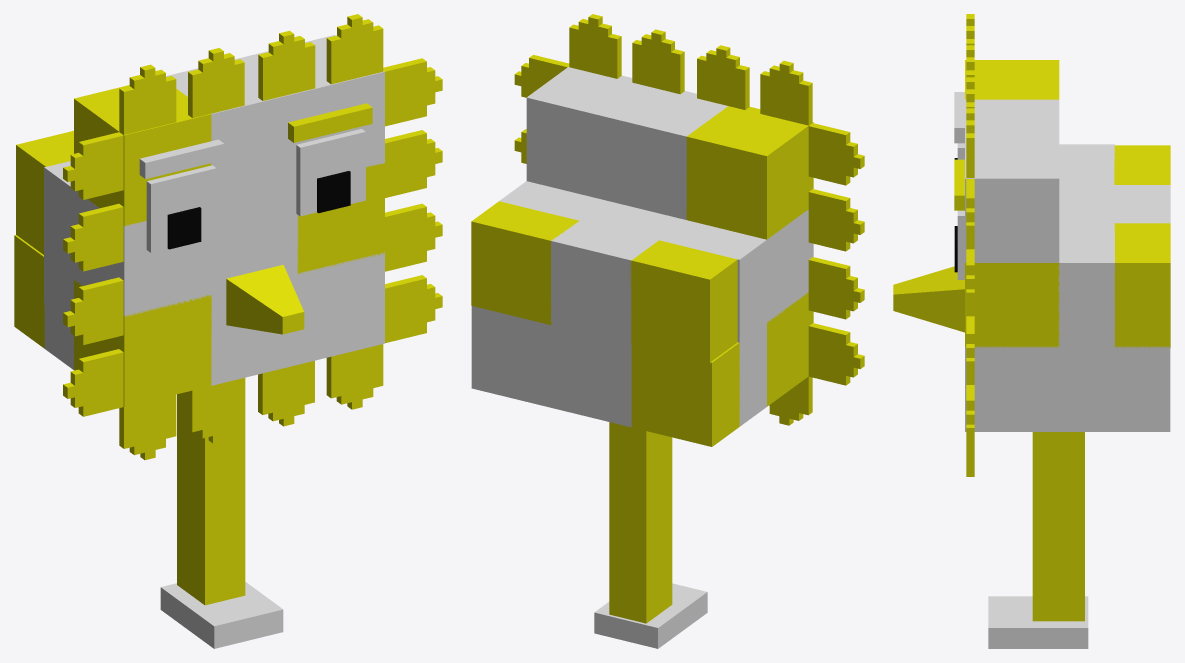
3 renders of one model, left to right at view 1: azimuth 30°, elevation 25°; view 2: azimuth 150°, elevation 25°; view 3: azimuth 270°, elevation 25°, orthographic. The views are drawn at different scales.
Parts seen in each view (by area): view 1: pCube43, pCube219, pCube47, pCube45, pCube220, pCube46, pCube2949, pCube2950, pCube48, pCube2951, pCube44, pCube221 (+31 smaller); view 2: pCube220, pCube2947, pCube219, pCube221, pCube223, pCube226, pCube228, pCube224, pCube227, pCube2949, pCube2950, pCube56 (+24 smaller); view 3: pCube221, pCube47, pCube48, pCube228, pCube59, pCube58, pCube227, pCube2949, pCube2950, pCube2951, pCube219, pCube220 (+9 smaller).
Part boxes in pixels (x1,y1,x2,y2): pCube43: (74,279,211,406); pCube219: (166,56,298,203); pCube47: (297,252,384,364); pCube45: (74,191,211,316); pCube220: (74,85,211,226); pCube46: (211,184,298,295); pCube2949: (177,414,245,522); pCube2950: (177,501,245,605); pCube48: (297,163,384,274); pCube2951: (160,582,283,648); pCube44: (211,273,298,385); pCube221: (248,35,384,167); pCube220: (686,106,813,239); pCube2947: (629,240,737,363); pCube219: (606,86,727,219); pCube221: (526,66,647,200); pCube223: (631,342,739,446); pCube226: (551,221,658,344); pCube228: (471,201,579,324); pCube224: (551,325,631,427); pCube227: (471,306,551,407); pCube2949: (609,445,672,547); pCube2950: (609,529,672,623); pCube56: (659,220,766,343); pCube221: (965,138,1059,262); pCube47: (965,346,1059,431); pCube48: (965,263,1059,347); pCube228: (1114,223,1170,348); pCube59: (1058,223,1114,347); pCube58: (1058,346,1114,431); pCube227: (1114,346,1170,431); pCube2949: (1032,459,1084,544); pCube2950: (1032,544,1084,621); pCube2951: (988,596,1088,648); pCube219: (965,99,1059,139); pCube220: (965,60,1059,99).
Size of the model in its own units: 8.59 by 13.29 by 5.9.
